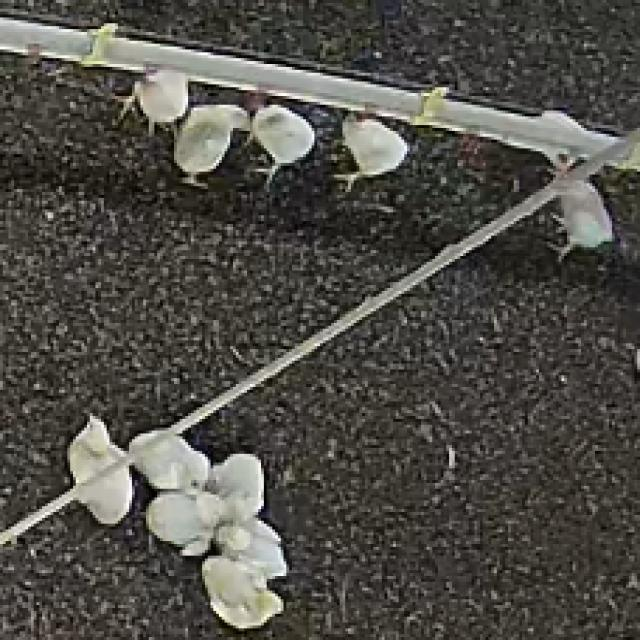broiler: (67, 416, 132, 524), (202, 556, 281, 628), (174, 105, 247, 180), (337, 113, 407, 189), (250, 105, 312, 180), (129, 431, 208, 489), (146, 492, 219, 553), (559, 173, 612, 256), (213, 518, 286, 576), (208, 454, 261, 518)
pipe: (0, 17, 618, 154)
